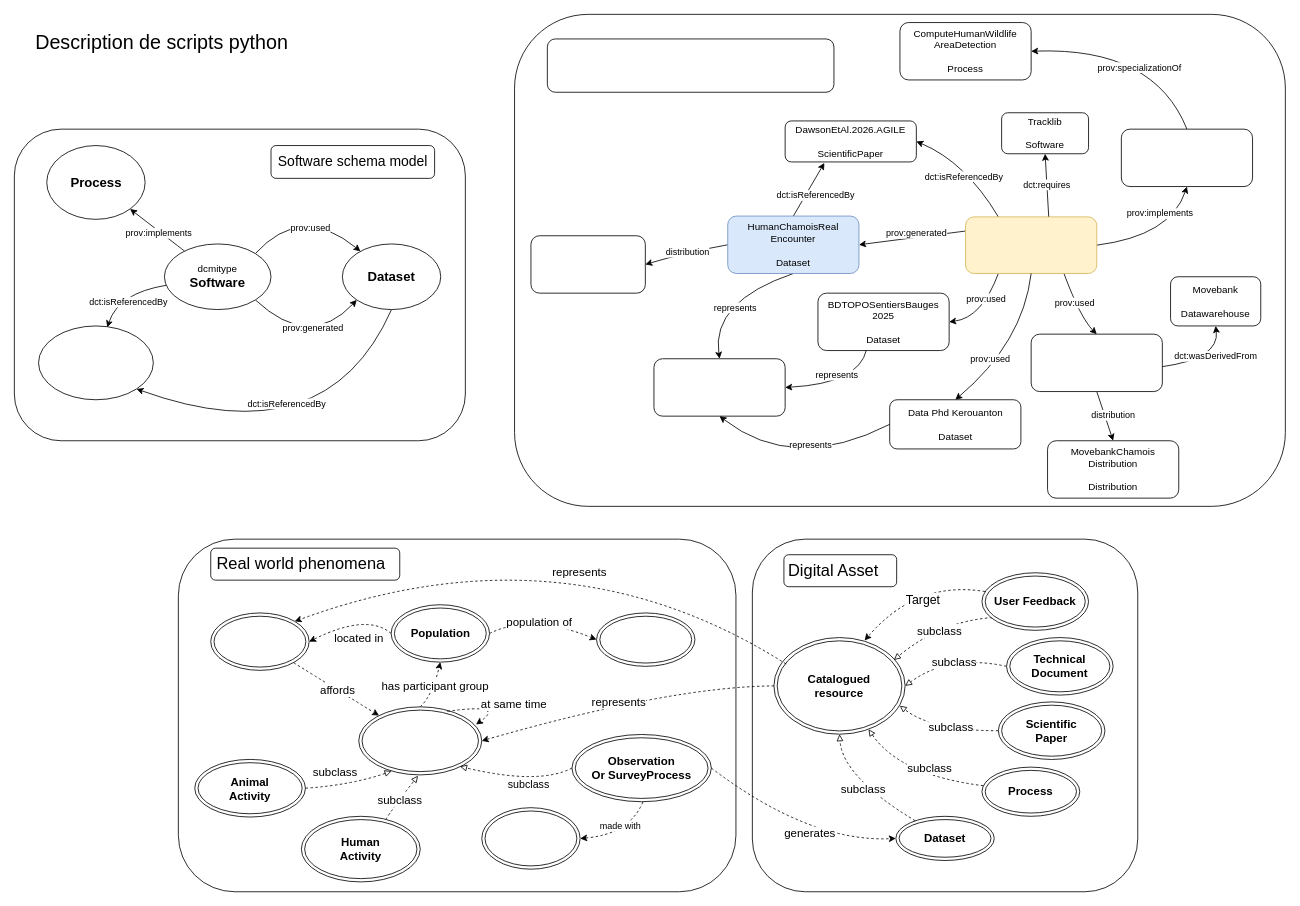
Image size: 1300x906. Some labels were removed from this diagram. The shapes that lost their labels are listed below. From the top down, each one's box as (x1, y1, x2, y2) in pixels, then its label:
(547, 38, 834, 92): Example with Human Chamois Encounter Detection Scripts
(1121, 128, 1253, 187): ComputeHumanChamois EncounterDetection Process
(530, 235, 645, 293): HumanChamoisReal Encounter -csv Distribution
(965, 216, 1097, 273): ComputeHumanChamois EncounterDetectionScripts Software
(38, 325, 153, 400): ScientificPaper
(1030, 333, 1162, 392): DataChamoisTrajectories 2023 Dataset
(653, 358, 785, 416): HikingInLesBauges Randonnée pédestre
(210, 612, 309, 670): LandEntity
(596, 612, 695, 666): Species
(358, 706, 482, 775): Activity
(481, 807, 580, 869): Sensor
